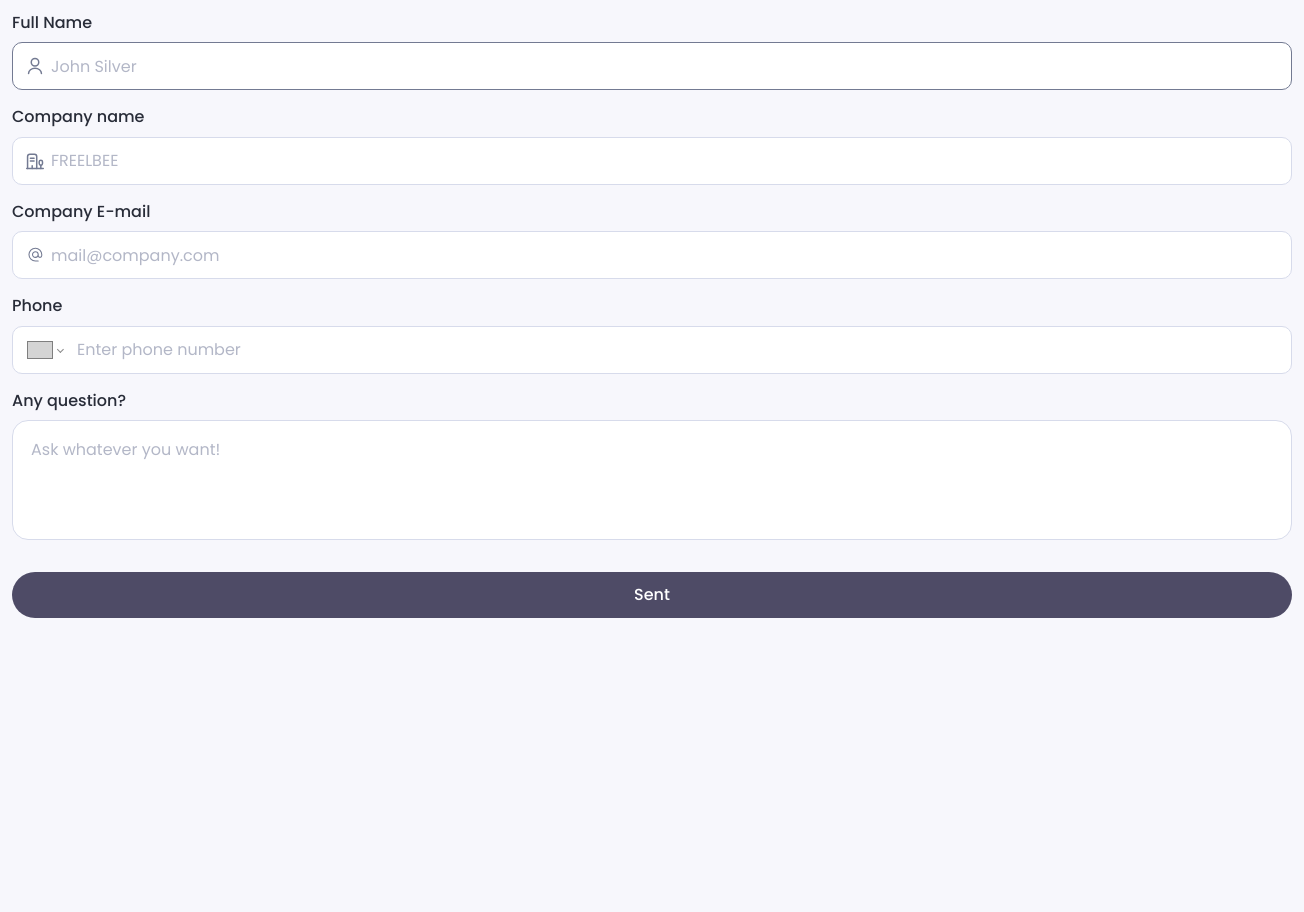
Scenario: Application form tests › should send only corporate emails
Type "user@gmail.com" into the field with test id "landing-form-email".
click(652, 255); type("user@gmail.com")  # box [12,231,1292,279]
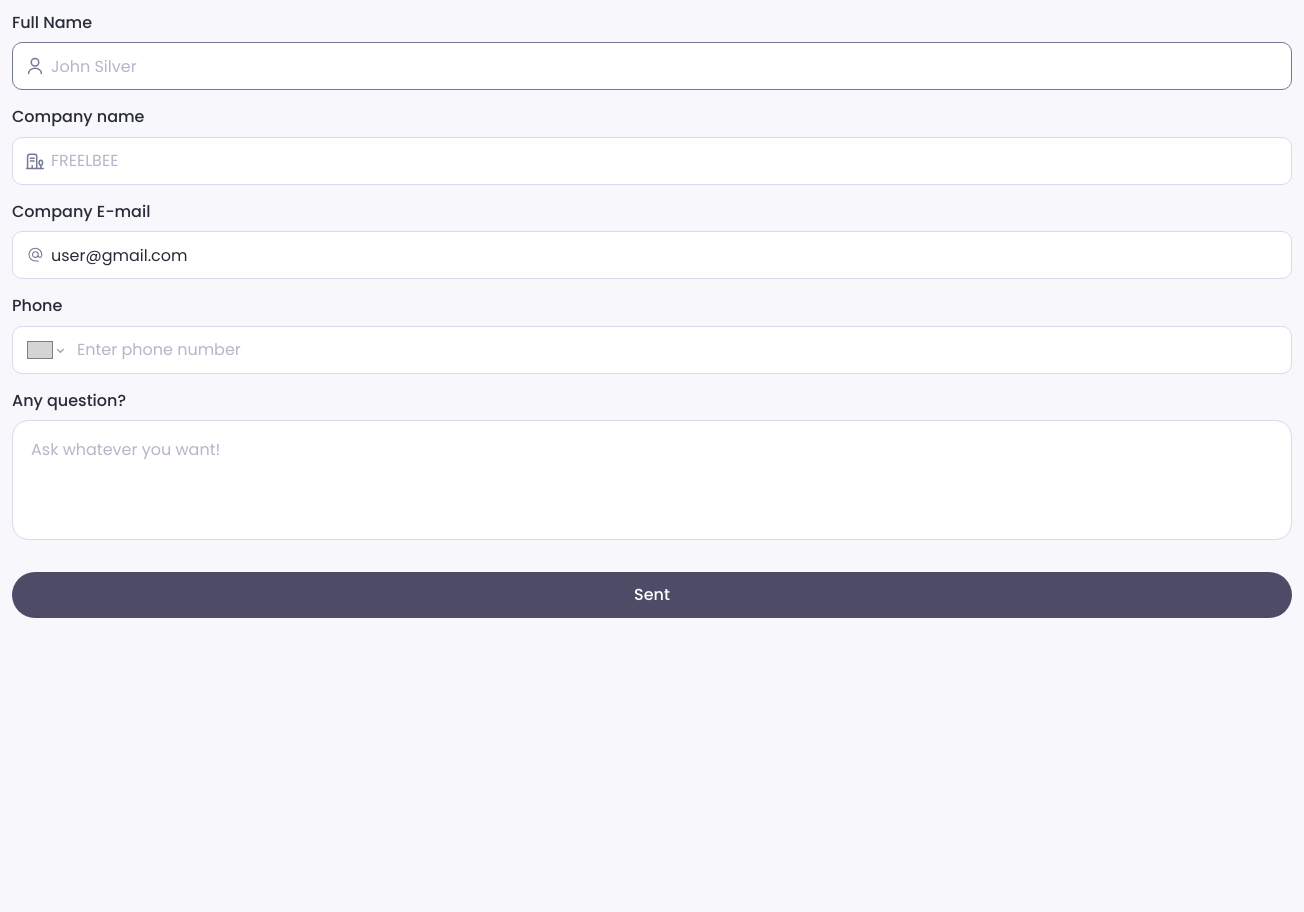
Type "9990091213" into the field with test id "landing-form-phone".
click(652, 350); type("9990091213")  # box [12,326,1292,374]
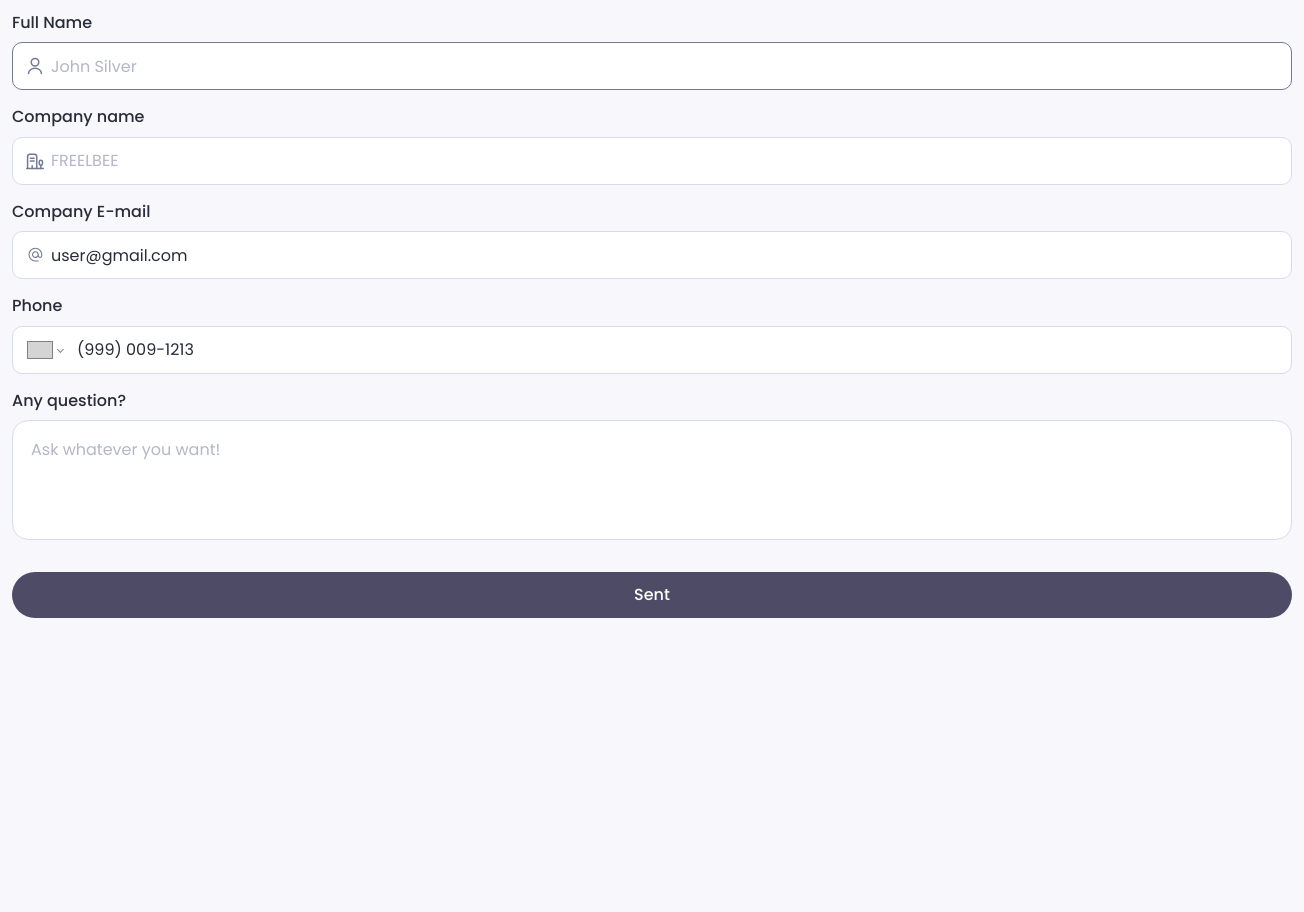
Type "Test Company" into the field with test id "landing-form-company".
click(652, 161); type("Test Company")  # box [12,137,1292,185]
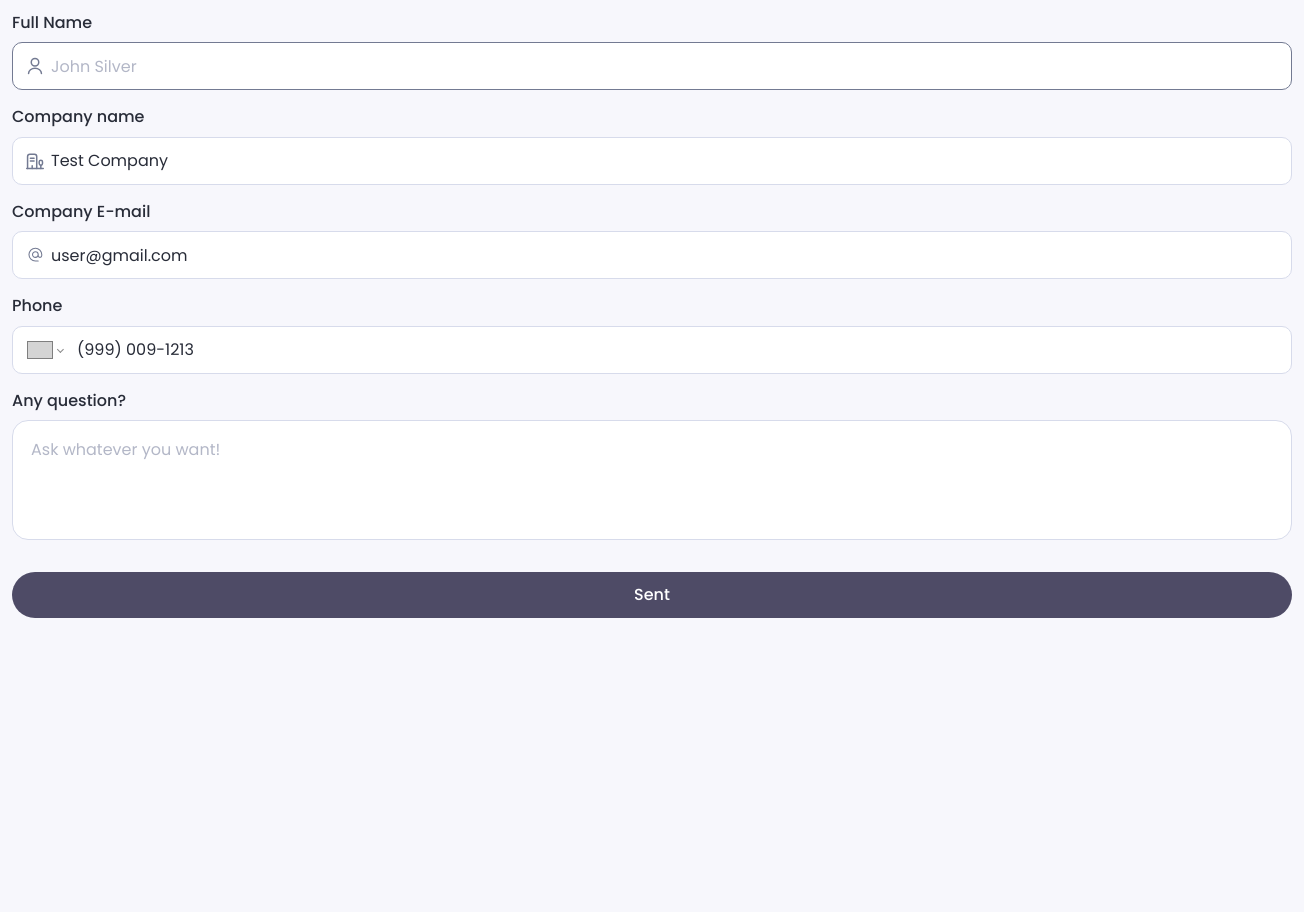
Type "User Name" into the field with test id "landing-form-name".
click(652, 66); type("User Name")  # box [12,42,1292,90]
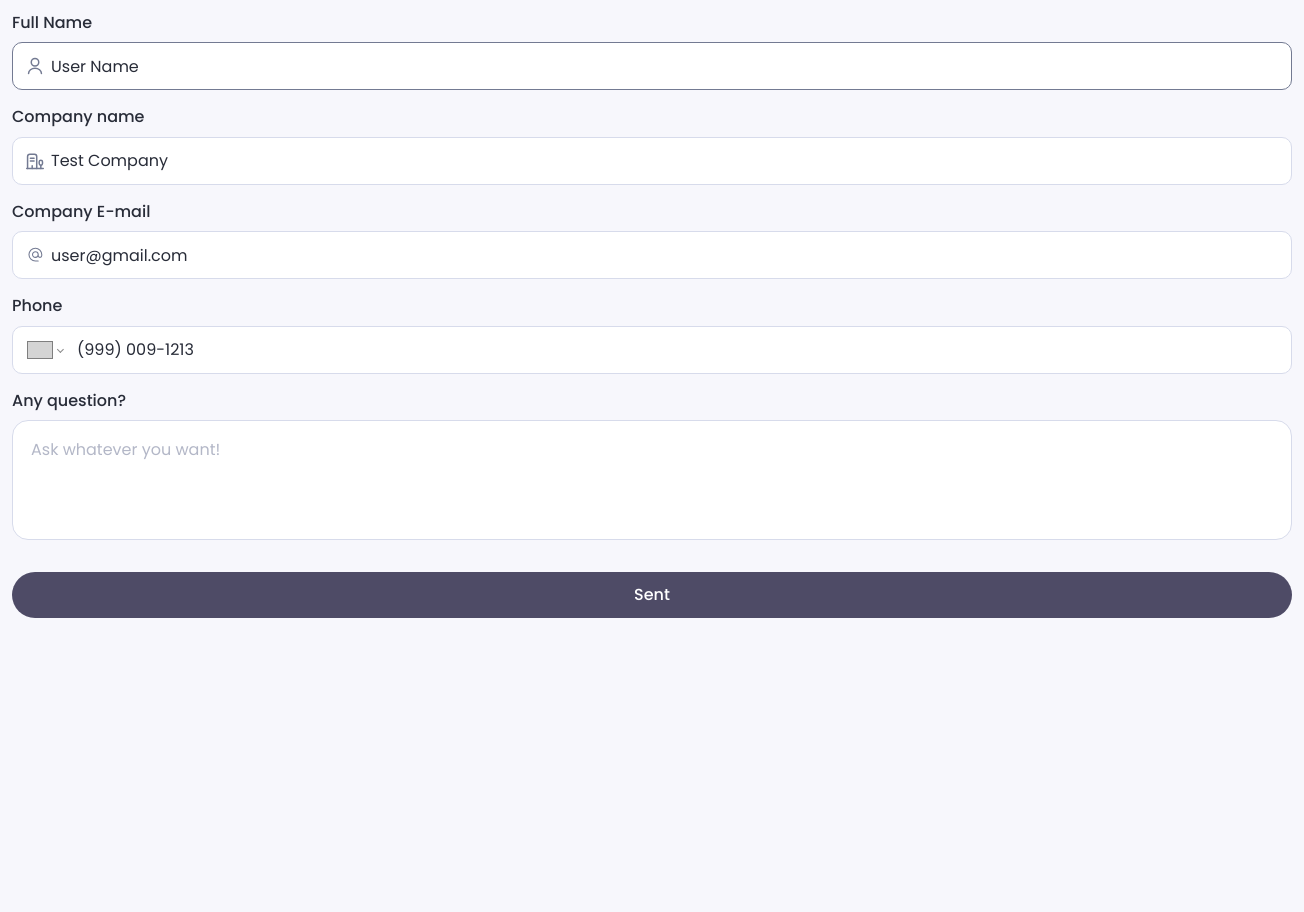
Type "Message text" into the text box with test id "landing-form-message".
click(658, 480); type("Message text")  # box [29,437,1287,523]
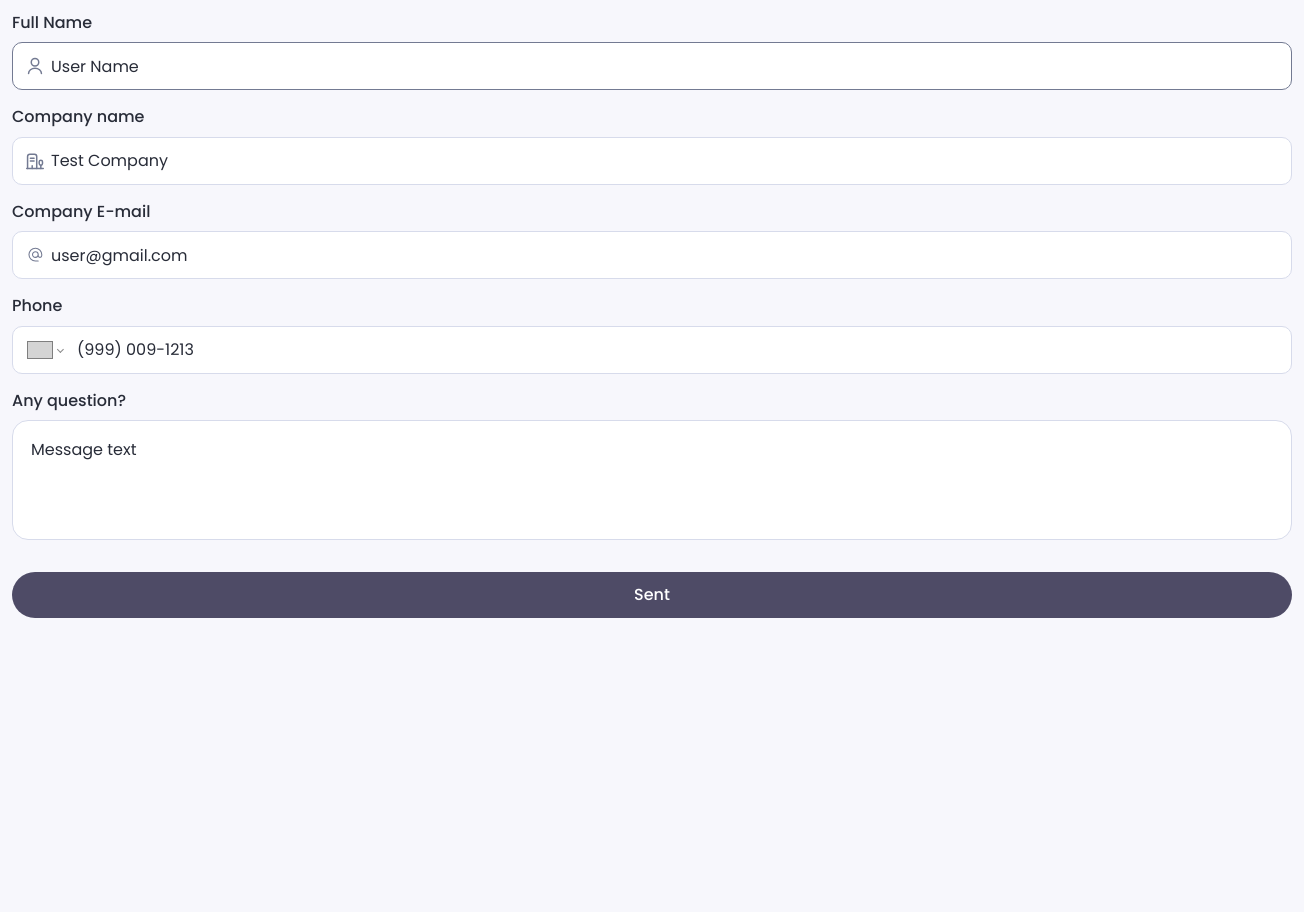
Click the button with test id "landing-form-submit".
click(652, 595)  # box [12,572,1292,618]
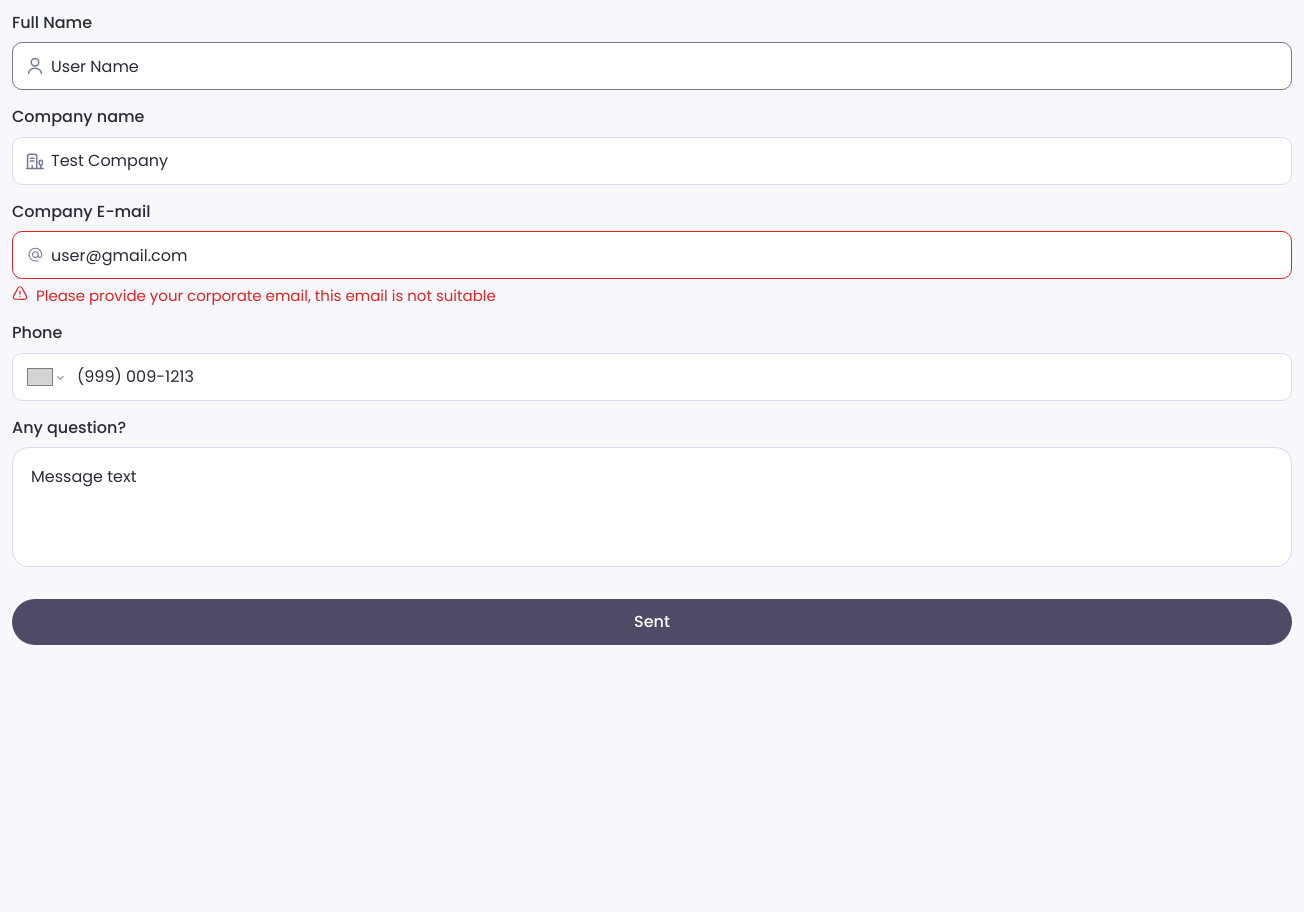
Now the text "Please provide your corporate email, this email is not suitable" is shown once, box [36,285,496,306]
